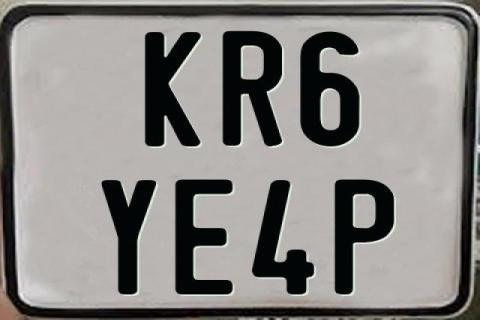0: (249, 179, 314, 295), (298, 31, 358, 149)
E: (173, 178, 233, 294)
K: (142, 31, 204, 147)
P: (335, 177, 396, 296)
R: (223, 30, 287, 148)
Y: (99, 179, 158, 297)
